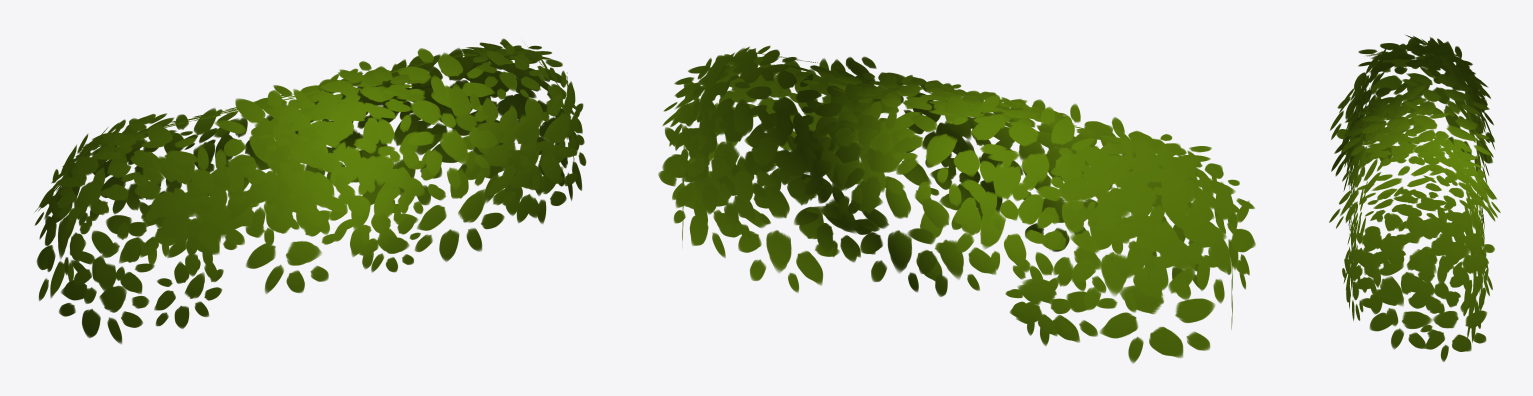
The picture shows the model from 3 angles, left to right: view 1: azimuth 30°, elevation 25°; view 2: azimuth 150°, elevation 25°; view 3: azimuth 270°, elevation 25°; orthographic projection. The views are drawn at different scales.
Visible parts, largest first — view 1: Bush_Small.001; view 2: Bush_Small.001; view 3: Bush_Small.001.
Boxes of the visible parts, x1,y1,x2,y2 form: Bush_Small.001: [34, 38, 586, 343]; Bush_Small.001: [658, 45, 1255, 363]; Bush_Small.001: [1329, 35, 1500, 361].
Bounding box in the file's own units: 3.81 × 1.56 × 1.45.
1 material, 1 textured.
